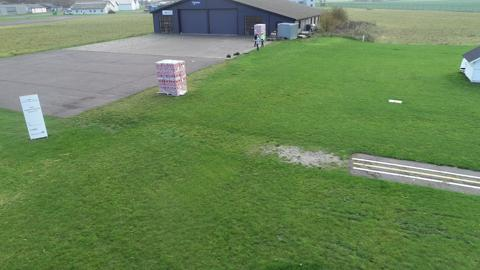RockwoolPallet: (253, 23, 266, 42)
